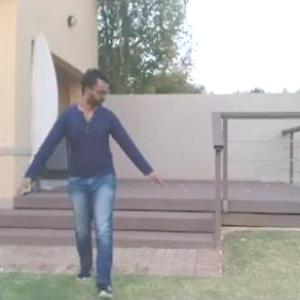land: (2, 50, 186, 297)
